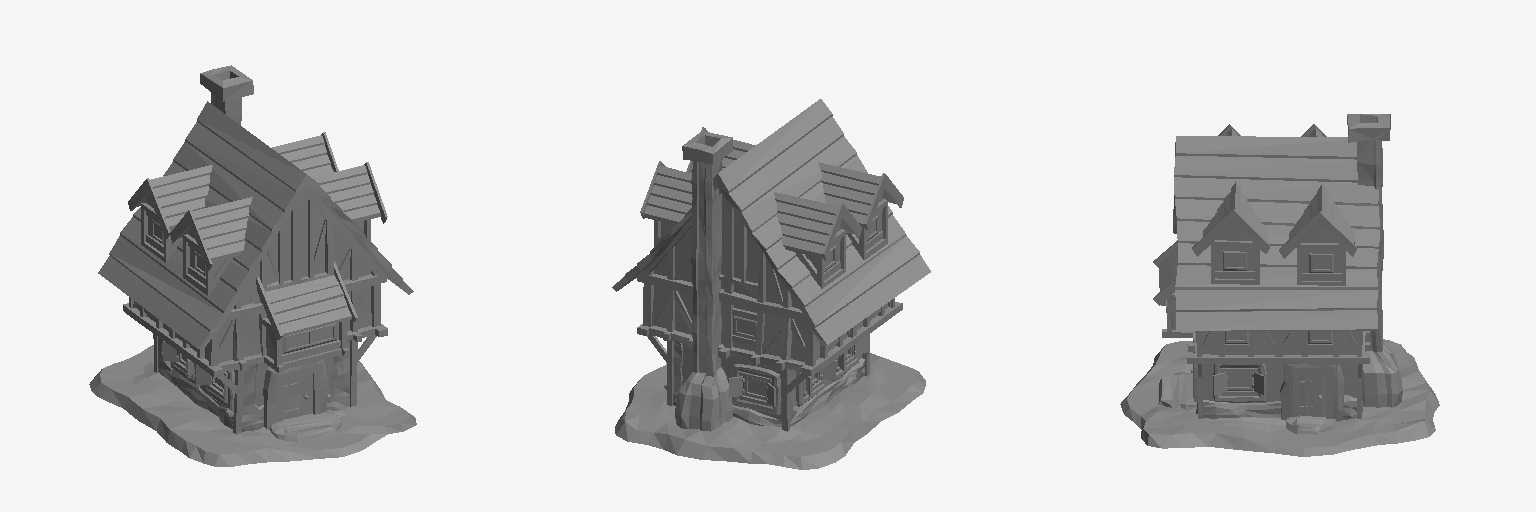
Rendered from house.obj.
The picture shows the model from 3 angles: view 1: azimuth 30°, elevation 25°; view 2: azimuth 150°, elevation 25°; view 3: azimuth 270°, elevation 25°; orthographic projection.
Visible parts, largest first — view 1: g_house_low_meshId14_name, g_roof_low_meshId6_name, g_grand_low_meshId16_name, g_skylight_b_low_meshId20_name, g_skylight_a_low_meshId13_name, g_stone_a_low.001_meshId17_name, g_door_b_low_meshId8_name, g_chimney_low_meshId18_name, g_stone_b_low_meshId10_name, g_window_house_d_low_meshId1_name, g_skylight_wood_b_low_meshId22_name, g_skylight_wood_a_low_meshId12_name (+2 smaller); view 2: g_roof_low_meshId6_name, g_house_low_meshId14_name, g_grand_low_meshId16_name, g_chimney_low_meshId18_name, g_skylight_a_low_meshId13_name, g_skylight_b_low_meshId20_name, g_stone_a_low.001_meshId17_name, g_window_house_a_low_meshId3_name, g_skylight_wood_a_low_meshId12_name, g_window_house_c_low_meshId5_name, g_skylight_wood_b_low_meshId22_name, g_shutter_a_low_meshId15_name; view 3: g_roof_low_meshId6_name, g_grand_low_meshId16_name, g_house_low_meshId14_name, g_chimney_low_meshId18_name, g_door_a_low_meshId7_name, g_skylight_b_low_meshId20_name, g_skylight_a_low_meshId13_name, g_stone_a_low.001_meshId17_name, g_wondow_house_b_low_meshId4_name, g_skylight_window_a_low_meshId0_name, g_skylight_window_b_low_meshId21_name, g_skylight_wood_a_low_meshId12_name (+4 smaller).
Boxes of the visible parts, box(x1,y1,x2,y2) form: g_house_low_meshId14_name: box(123, 186, 387, 433); g_roof_low_meshId6_name: box(98, 101, 413, 349); g_grand_low_meshId16_name: box(89, 345, 416, 466); g_skylight_b_low_meshId20_name: box(136, 165, 380, 262); g_skylight_a_low_meshId13_name: box(178, 135, 333, 295); g_stone_a_low.001_meshId17_name: box(158, 337, 350, 431); g_door_b_low_meshId8_name: box(263, 360, 327, 429); g_chimney_low_meshId18_name: box(200, 65, 253, 124); g_stone_b_low_meshId10_name: box(270, 410, 341, 442); g_window_house_d_low_meshId1_name: box(282, 323, 340, 362); g_skylight_wood_b_low_meshId22_name: box(128, 162, 387, 238); g_skylight_wood_a_low_meshId12_name: box(170, 132, 338, 270); g_roof_low_meshId6_name: box(612, 99, 930, 345); g_house_low_meshId14_name: box(637, 190, 902, 431); g_grand_low_meshId16_name: box(615, 353, 925, 469); g_chimney_low_meshId18_name: box(675, 131, 733, 431); g_skylight_a_low_meshId13_name: box(644, 162, 895, 259); g_skylight_b_low_meshId20_name: box(690, 140, 853, 288); g_stone_a_low.001_meshId17_name: box(673, 341, 864, 426); g_window_house_a_low_meshId3_name: box(733, 346, 858, 414); g_skylight_wood_a_low_meshId12_name: box(640, 161, 903, 230); g_window_house_c_low_meshId5_name: box(732, 308, 756, 346); g_skylight_wood_b_low_meshId22_name: box(686, 127, 861, 260); g_shutter_a_low_meshId15_name: box(765, 336, 867, 406); g_roof_low_meshId6_name: box(1173, 136, 1380, 330); g_grand_low_meshId16_name: box(1120, 339, 1439, 456); g_house_low_meshId14_name: box(1159, 247, 1369, 418); g_chimney_low_meshId18_name: box(1347, 114, 1402, 407); g_door_a_low_meshId7_name: box(1280, 364, 1344, 421); g_skylight_b_low_meshId20_name: box(1203, 128, 1323, 284); g_skylight_a_low_meshId13_name: box(1227, 129, 1354, 285); g_stone_a_low.001_meshId17_name: box(1196, 395, 1362, 419); g_wondow_house_b_low_meshId4_name: box(1213, 364, 1266, 402); g_skylight_window_a_low_meshId0_name: box(1302, 249, 1341, 280); g_skylight_window_b_low_meshId21_name: box(1215, 247, 1254, 278); g_skylight_wood_a_low_meshId12_name: box(1218, 124, 1356, 258).
Size of the model in its own units: 1.69 by 2 by 2.